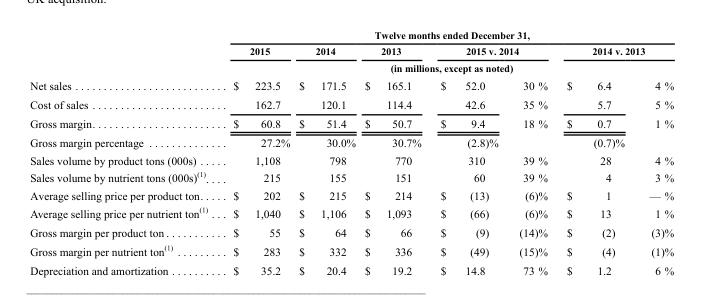table: (29, 28, 673, 276)
table column: (29, 28, 220, 276), (556, 28, 636, 276), (430, 28, 508, 276), (220, 28, 293, 276), (359, 28, 430, 276), (293, 28, 359, 276), (508, 28, 556, 276), (636, 28, 673, 276)
table column header: (29, 28, 673, 94)
table row: (29, 240, 673, 260), (29, 75, 673, 94), (29, 94, 673, 113), (29, 113, 673, 132), (29, 132, 673, 151), (29, 167, 673, 186), (29, 203, 673, 222), (29, 222, 673, 240), (29, 58, 673, 75), (29, 186, 673, 203), (29, 42, 673, 58), (29, 151, 673, 167), (29, 260, 673, 276), (29, 28, 673, 42)
table spanning cell: (29, 28, 220, 94), (220, 58, 673, 75), (220, 28, 673, 42), (430, 42, 556, 58), (556, 42, 673, 58)
